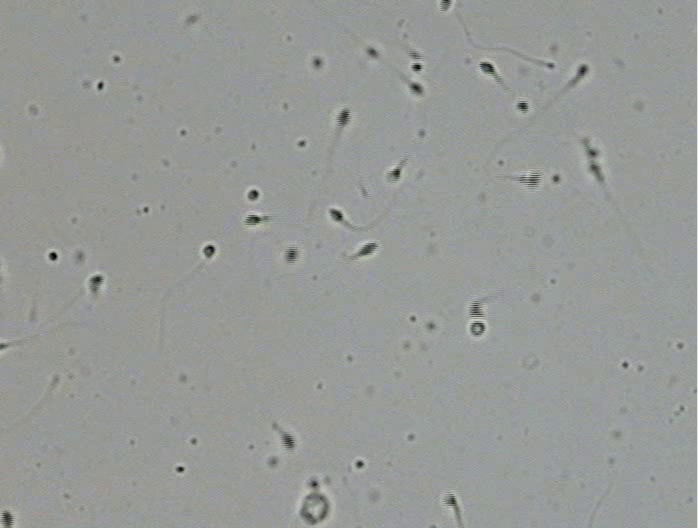Impurity: (300, 477, 329, 524)
S: (519, 173, 542, 189), (87, 275, 104, 294), (358, 242, 379, 257), (469, 300, 485, 319), (280, 431, 295, 449), (336, 109, 351, 127), (407, 81, 424, 96), (470, 321, 486, 336), (284, 247, 298, 264), (479, 61, 496, 75), (328, 208, 344, 222), (1, 511, 14, 528), (244, 214, 262, 226), (443, 492, 457, 507), (386, 167, 400, 182), (203, 245, 216, 259), (589, 162, 602, 176), (247, 189, 260, 201), (585, 147, 599, 158), (409, 49, 423, 60), (577, 64, 588, 78), (517, 101, 529, 113), (439, 1, 452, 12), (367, 47, 379, 58), (312, 58, 322, 68), (411, 63, 422, 72), (1, 342, 8, 350)
